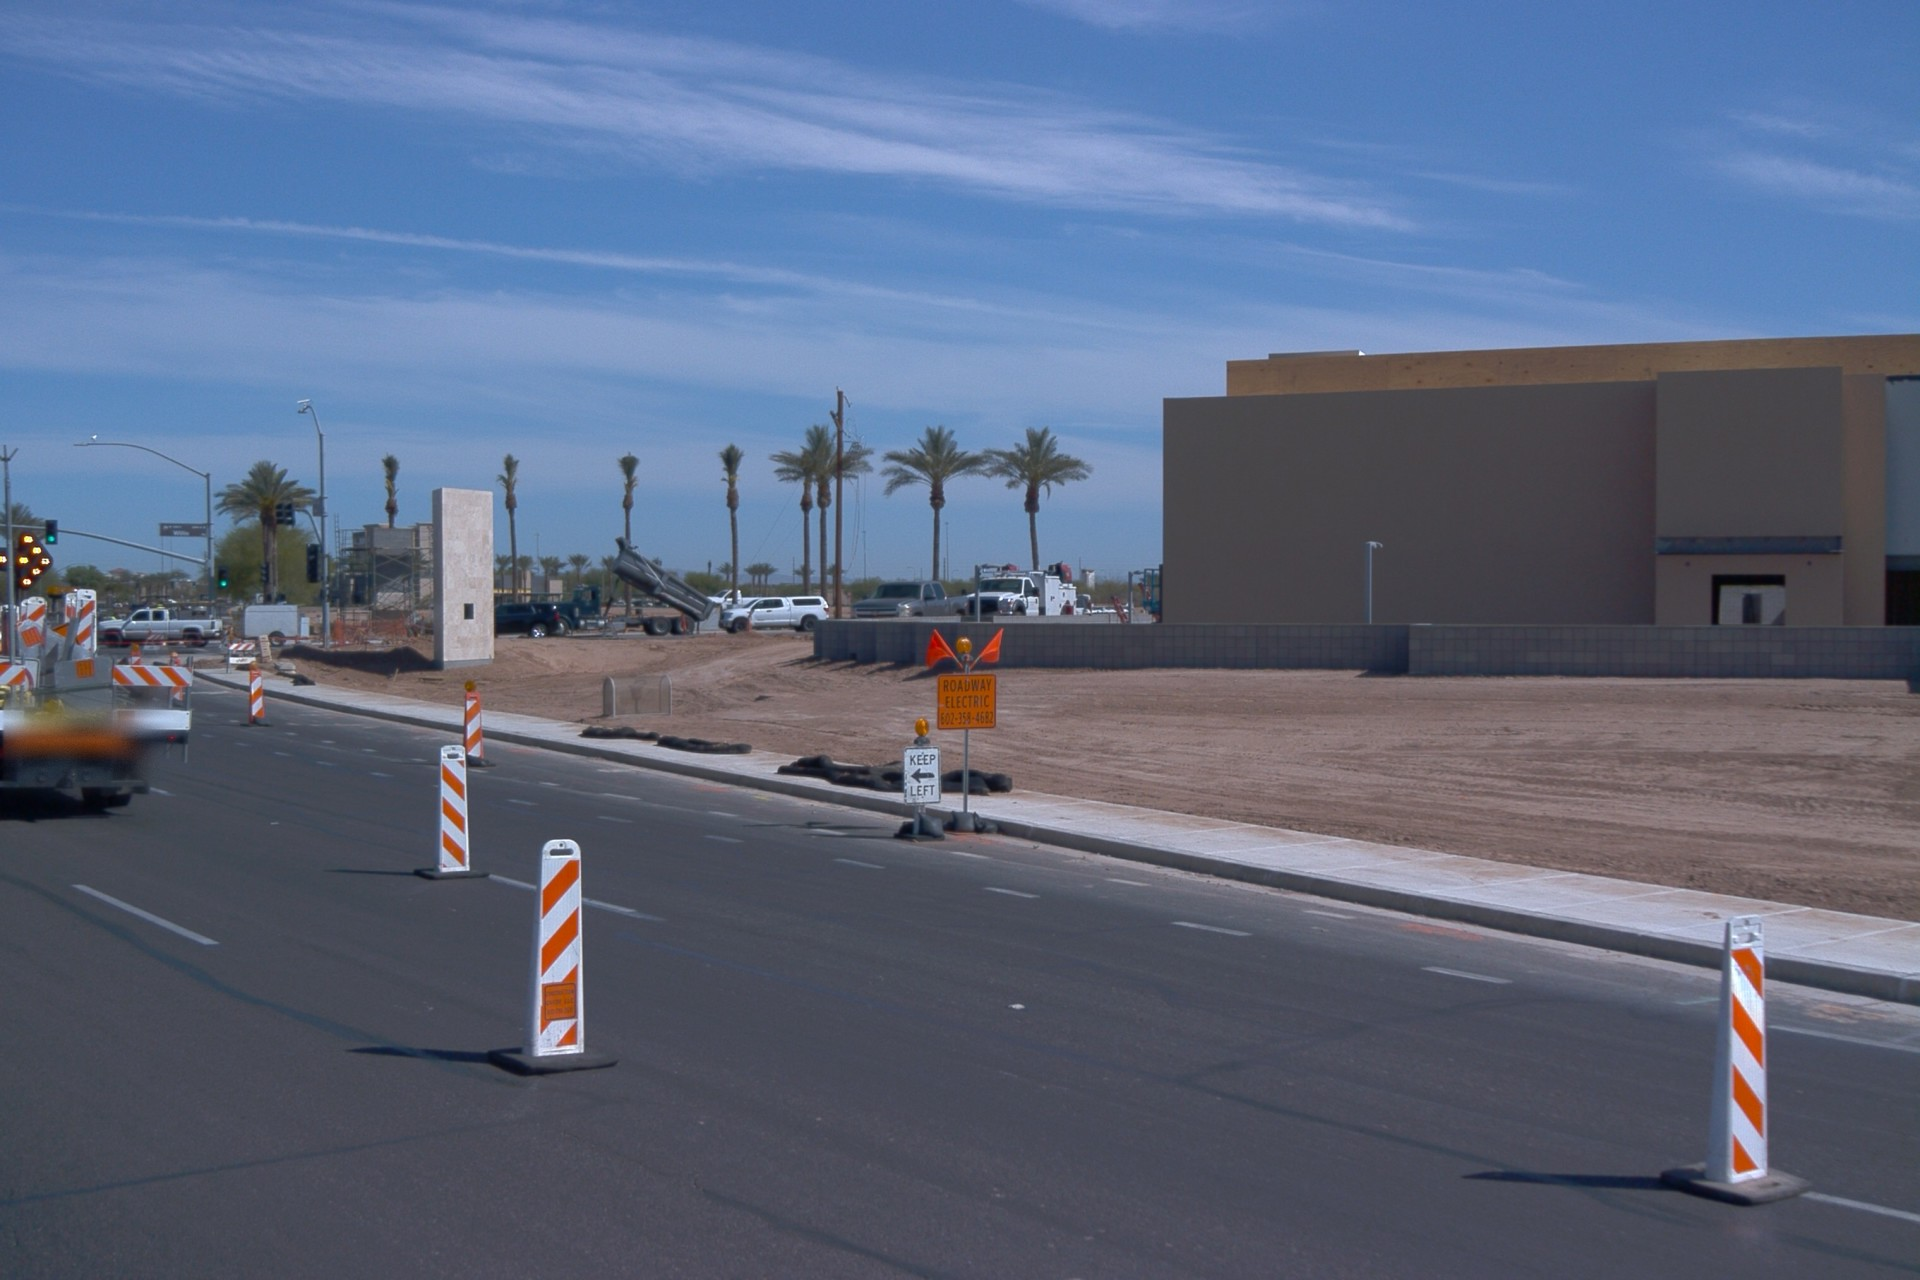TYPE_VEHICLE: (0, 446, 202, 814), (549, 542, 717, 645), (961, 553, 1083, 619), (842, 571, 973, 625), (95, 607, 225, 650), (720, 594, 832, 638), (491, 600, 564, 648), (244, 605, 303, 650), (1062, 592, 1136, 623), (705, 585, 762, 606), (131, 592, 181, 609), (111, 595, 125, 608), (98, 612, 105, 626)
